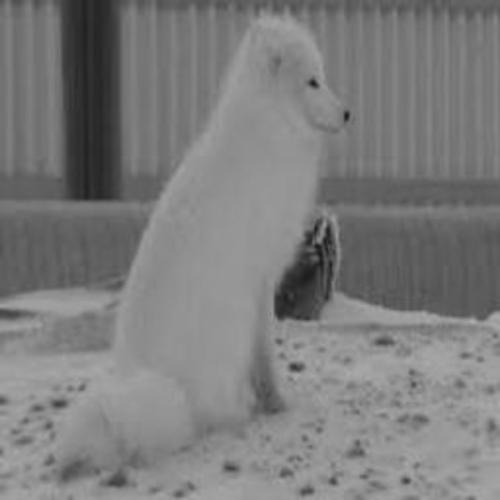arctic_fox-endangered: (58, 16, 350, 457)
